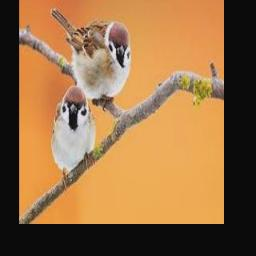Sparrow: (50, 8, 130, 112), (51, 85, 96, 191)
